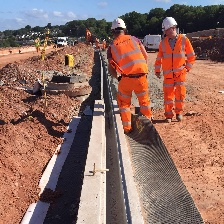helmet: (159, 17, 180, 36), (108, 17, 128, 35)
person: (105, 17, 159, 129), (153, 14, 198, 121)
vest: (156, 36, 195, 85), (110, 34, 148, 78)
